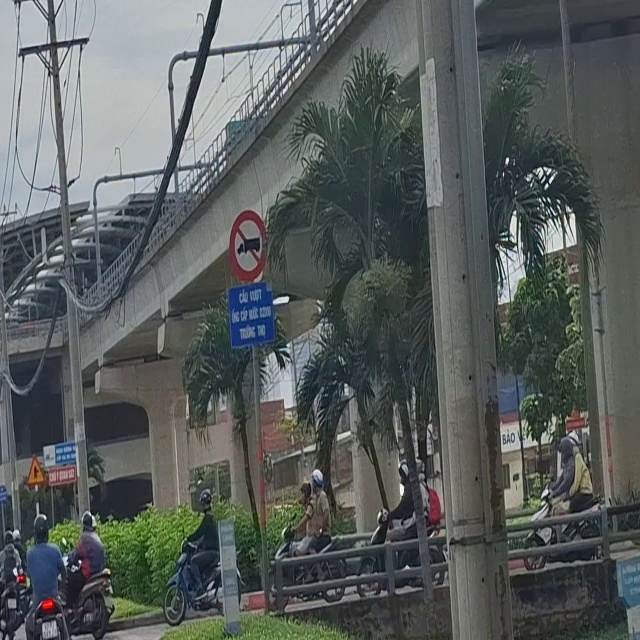cam xe tai lon: (217, 198, 273, 285)
